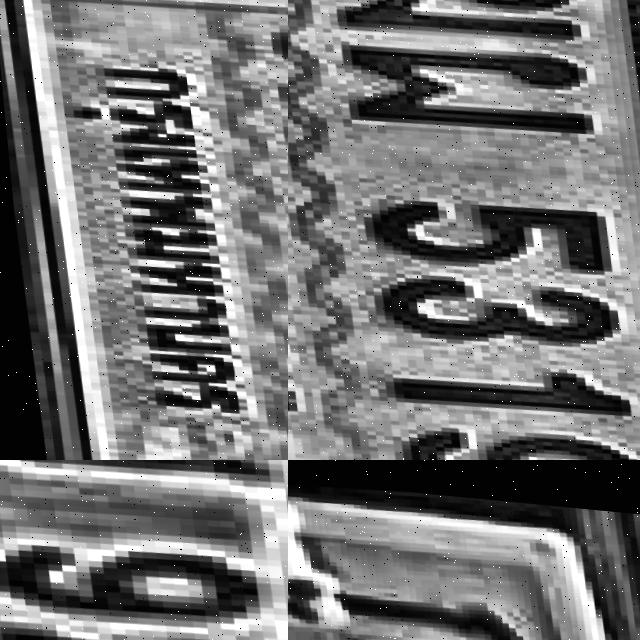license-plate: (288, 0, 640, 460), (0, 0, 288, 460), (288, 460, 640, 640), (0, 460, 288, 640)
